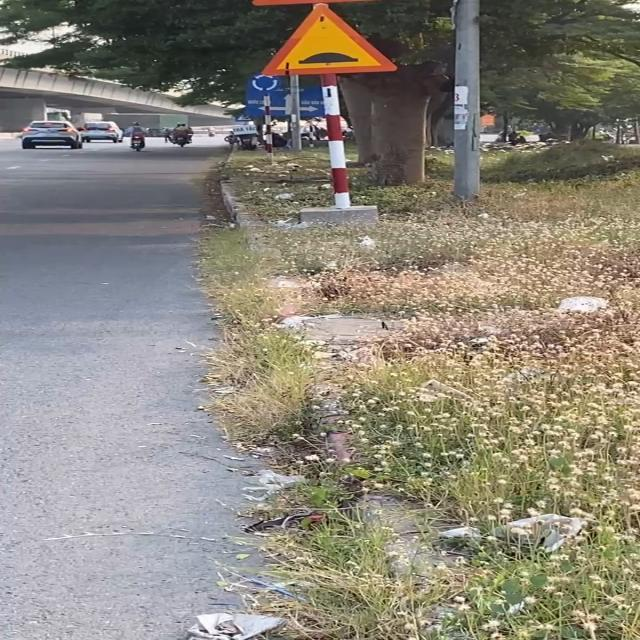221-duong-go-ghe: (258, 0, 398, 74)
303-noi-giao-nhau-chay-theo-vong-xuyen: (249, 74, 280, 92)
